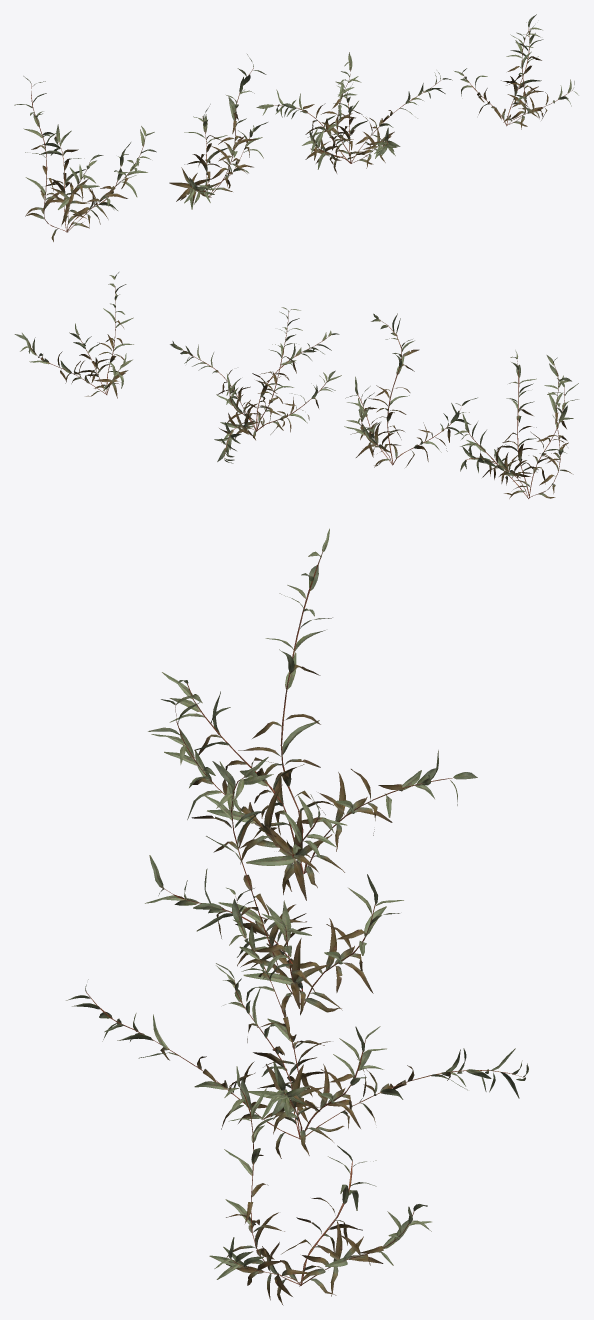
Rendered from shrub_02.glb.
The picture shows the model from 3 angles, top to bottom: view 1: azimuth 30°, elevation 25°; view 2: azimuth 150°, elevation 25°; view 3: azimuth 270°, elevation 25°; orthographic projection. The views are drawn at different scales.
Visible parts, largest first — view 1: shrub_02_a, shrub_02_c, shrub_02_b, shrub_02_d; view 2: shrub_02_c, shrub_02_a, shrub_02_b, shrub_02_d; view 3: shrub_02_a, shrub_02_c, shrub_02_b, shrub_02_d.
Boxes of the visible parts, x1,y1,x2,y2 form: shrub_02_a: (14, 76, 156, 241); shrub_02_c: (256, 52, 452, 173); shrub_02_b: (169, 54, 267, 209); shrub_02_d: (454, 14, 578, 129); shrub_02_c: (170, 307, 341, 463); shrub_02_a: (454, 350, 578, 498); shrub_02_b: (344, 313, 477, 467); shrub_02_d: (14, 272, 133, 398); shrub_02_a: (148, 528, 477, 900); shrub_02_c: (66, 887, 528, 1158); shrub_02_b: (145, 757, 403, 1017); shrub_02_d: (209, 1066, 431, 1305).
Size of the model in its own units: 6.04 by 1.7 by 2.29.
1 material, 1 textured.
